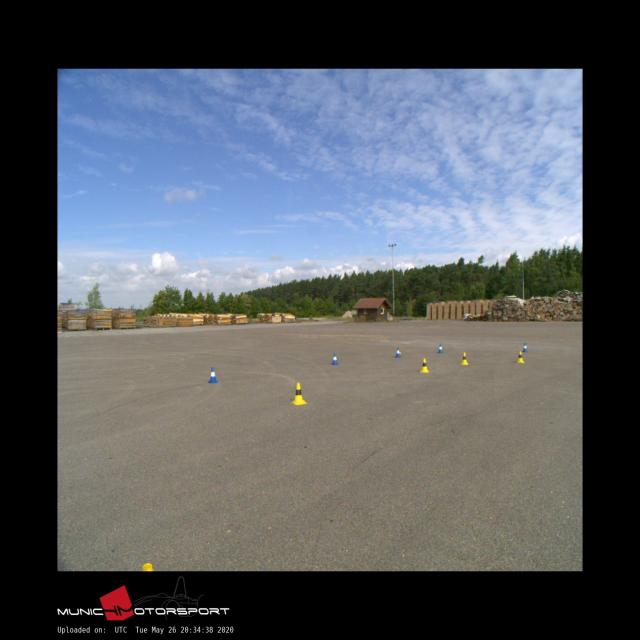blue_cone: (208, 367, 216, 382), (331, 354, 339, 364), (395, 347, 401, 358), (522, 343, 528, 351), (438, 344, 443, 353)
yellow_cone: (290, 382, 307, 404), (419, 358, 428, 372), (516, 350, 524, 362), (461, 352, 468, 364)
